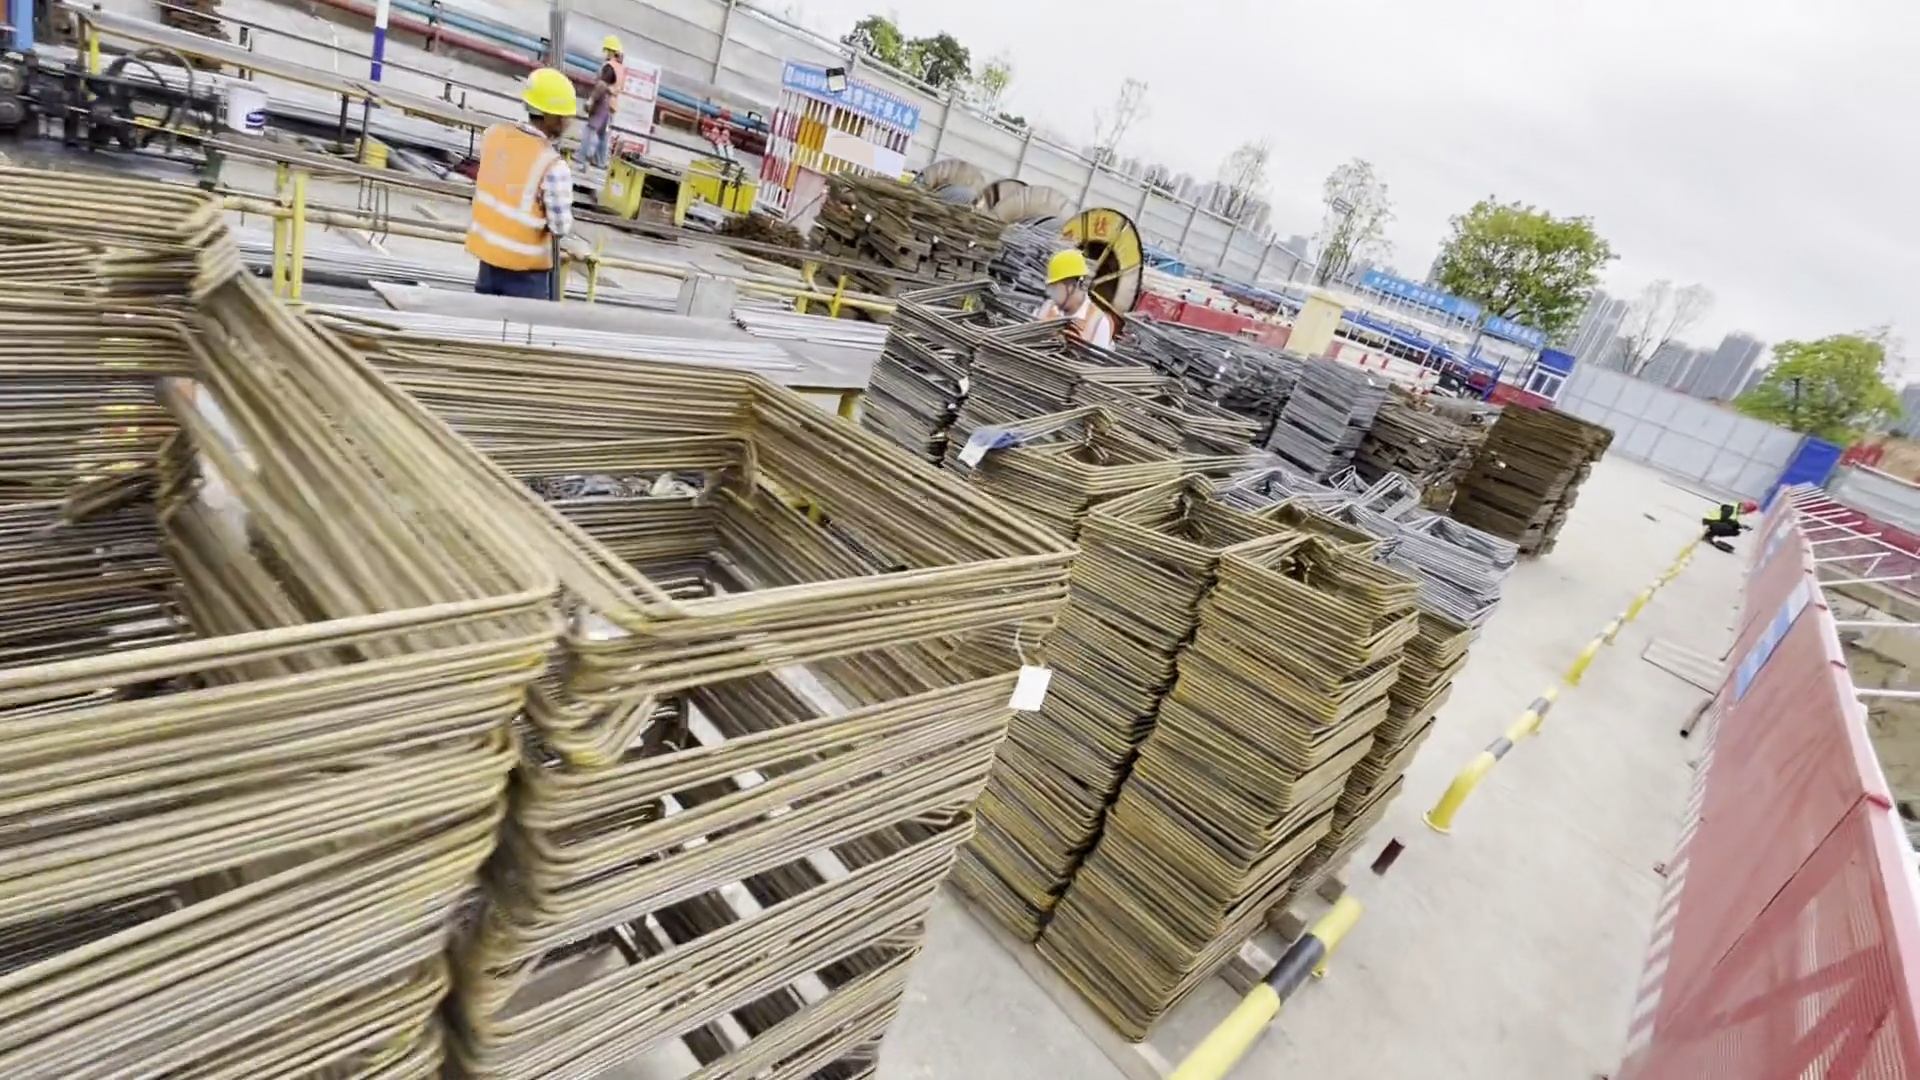ebox: (1276, 288, 1346, 356)
fence: (1595, 503, 1917, 1080)
helmet: (521, 69, 578, 119), (1039, 245, 1092, 282), (1703, 503, 1737, 523), (598, 36, 623, 54), (1744, 501, 1756, 513)
person: (464, 56, 563, 311), (1028, 246, 1114, 371), (582, 34, 619, 171), (1695, 497, 1758, 556)
slogan: (775, 72, 930, 127), (1366, 274, 1451, 312)
vest: (459, 119, 554, 264), (1032, 296, 1099, 348), (602, 57, 624, 110)
